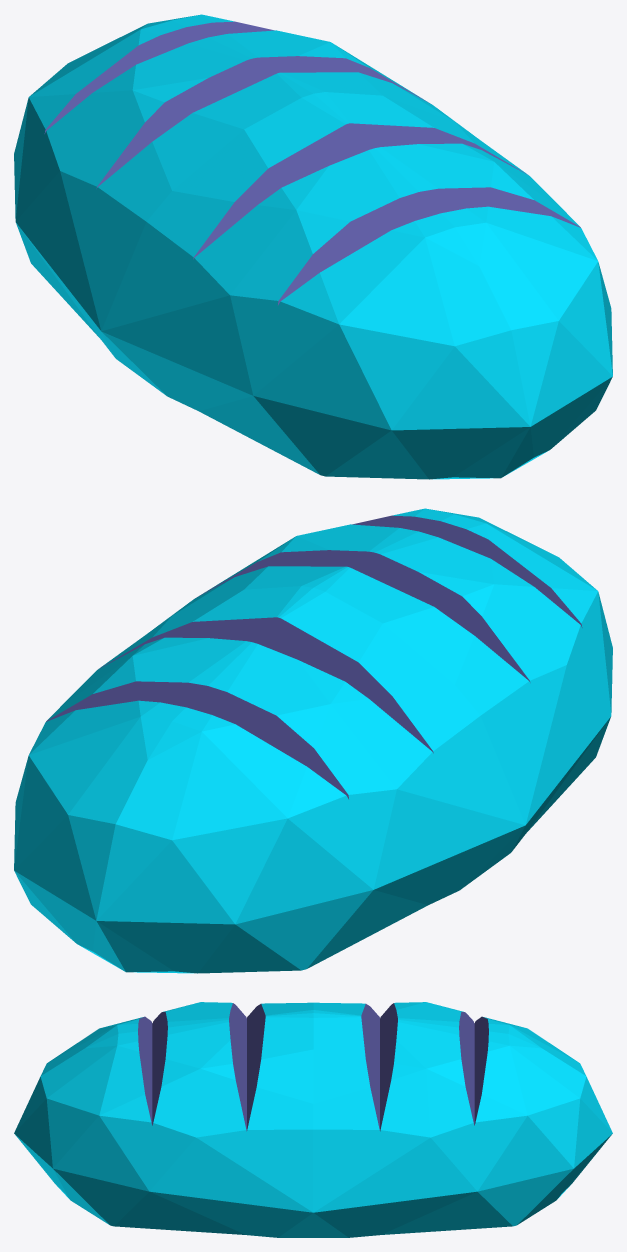
The model's file is Bread.fbx.
3 views of the same model, one above another, from view 1: azimuth 30°, elevation 25°; view 2: azimuth 150°, elevation 25°; view 3: azimuth 270°, elevation 25° (orthographic). The views are drawn at different scales.
Visible parts, largest first — view 1: Bread; view 2: Bread; view 3: Bread.
Part boxes in pixels (left/top/right/bottom): Bread: left=14, top=14, right=612, bottom=479; Bread: left=14, top=508, right=612, bottom=973; Bread: left=14, top=1002, right=612, bottom=1237.
Size of the model in its own units: 24.6 by 13.7 by 43.58.
